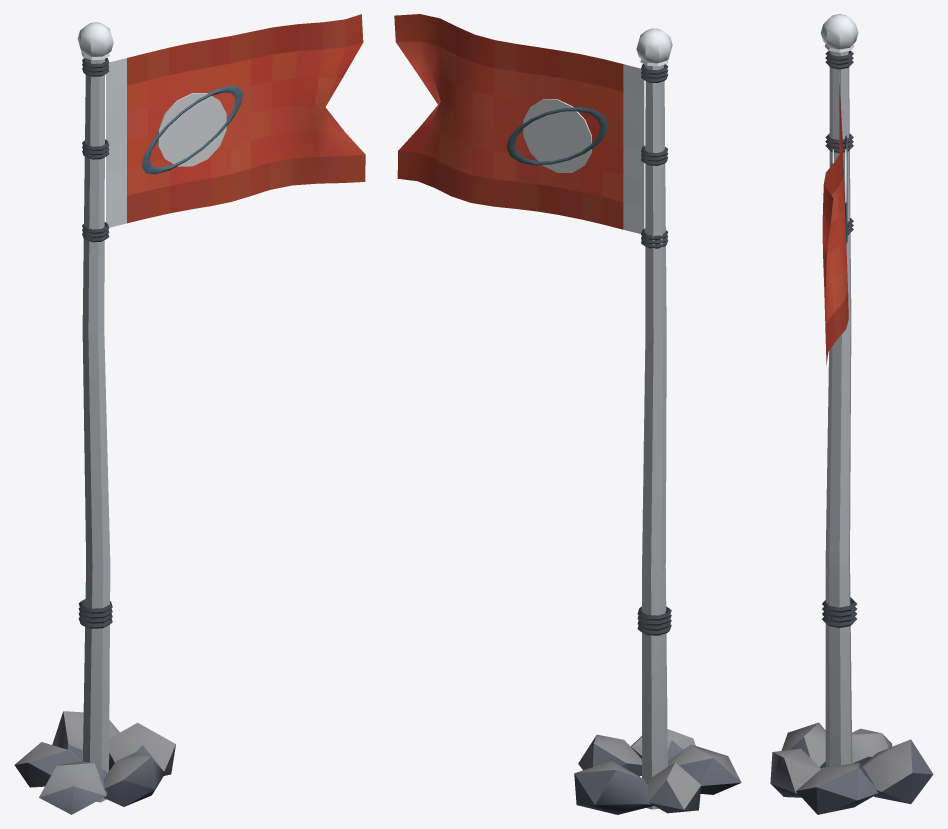
The model's file is flag.glb.
The picture shows the model from 3 angles, left to right: view 1: azimuth 30°, elevation 25°; view 2: azimuth 150°, elevation 25°; view 3: azimuth 270°, elevation 25°; orthographic projection.
Parts seen in each view (by area): view 1: flag_cloth, flag_pole; view 2: flag_cloth, flag_pole; view 3: flag_pole, flag_cloth.
Boxes of the visible parts, left/top/right/bottom form: flag_cloth: left=106, top=14, right=365, bottom=227; flag_pole: left=14, top=22, right=175, bottom=814; flag_cloth: left=394, top=14, right=644, bottom=233; flag_pole: left=574, top=28, right=741, bottom=814; flag_pole: left=770, top=14, right=933, bottom=814; flag_cloth: left=822, top=73, right=848, bottom=365.
Size of the model in its own units: 2.12 by 4.67 by 0.8835.
